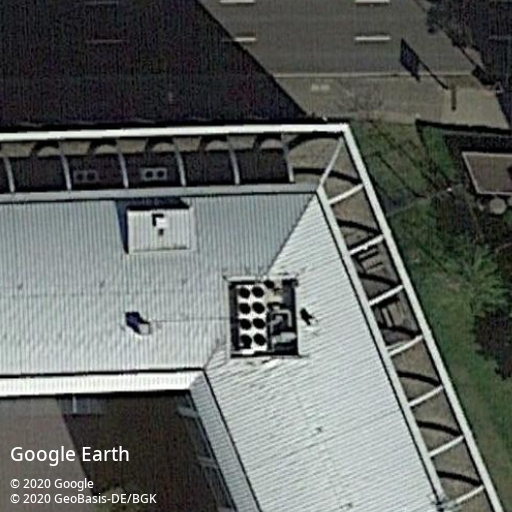Chiller: (235, 283, 269, 352), (138, 166, 169, 182), (71, 168, 101, 184)
